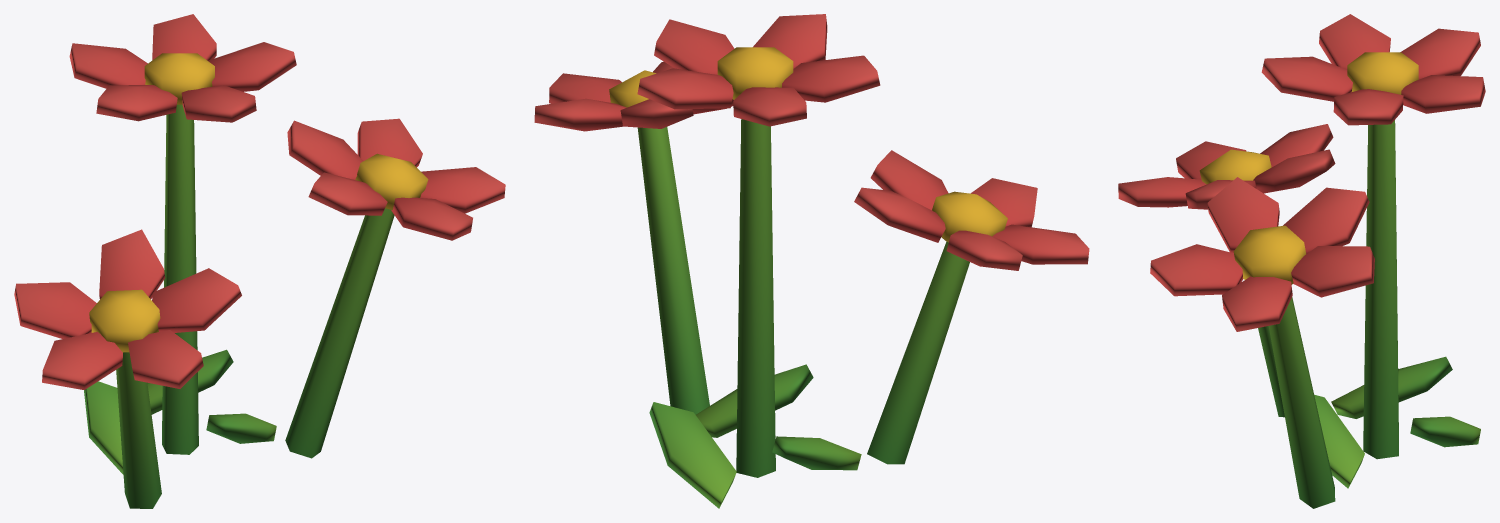
File: plant-flower-red.glb
The picture shows the model from 3 angles, left to right: view 1: azimuth 30°, elevation 25°; view 2: azimuth 150°, elevation 25°; view 3: azimuth 270°, elevation 25°; orthographic projection. The views are drawn at different scales.
Visible parts, largest first — view 1: plant.flower.red; view 2: plant.flower.red; view 3: plant.flower.red.
Boxes of the visible parts, bbox=[...] form: plant.flower.red: bbox=[14, 14, 505, 508]; plant.flower.red: bbox=[534, 14, 1089, 508]; plant.flower.red: bbox=[1118, 14, 1485, 508].
Size of the model in its own units: 0.7859 by 0.6281 by 0.5176.
